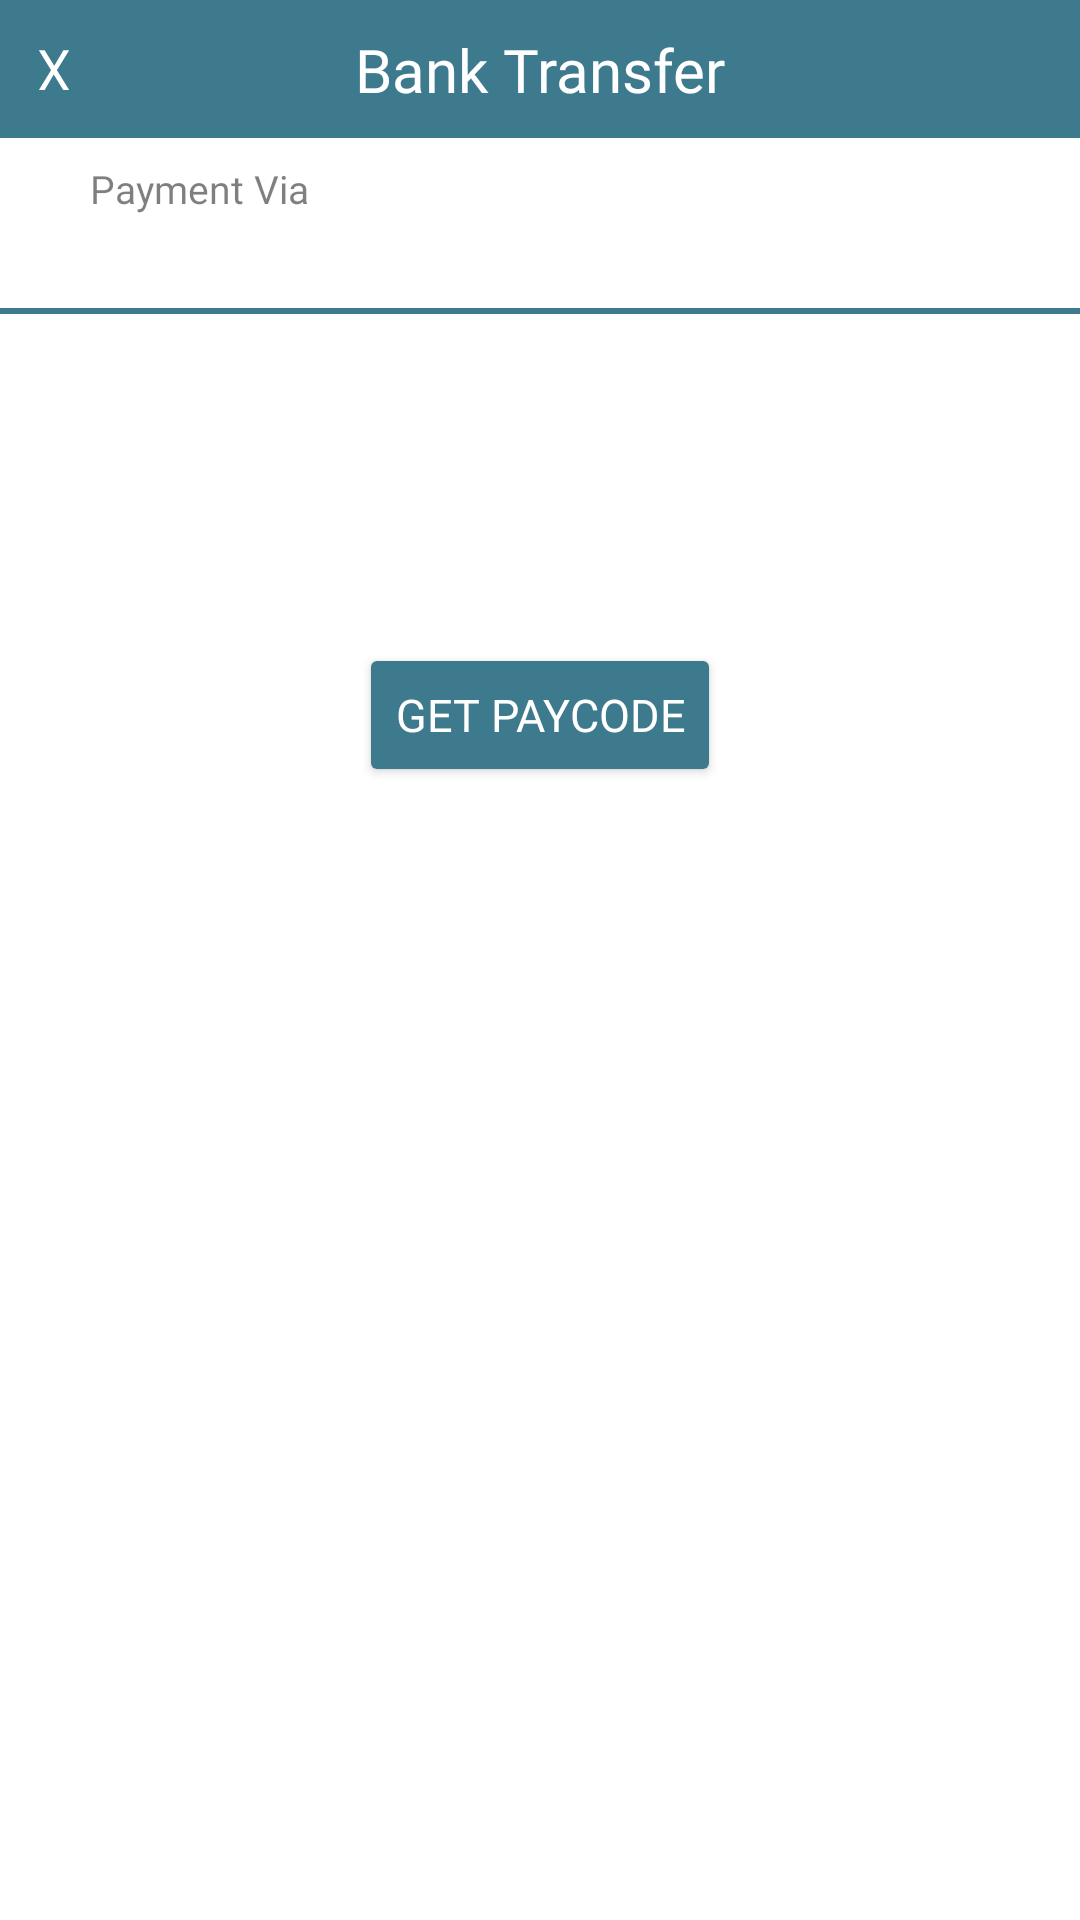

Point at icon controls on the screen. Image size 1080w x 1920h, points as [x,y].
close: [54,70]
